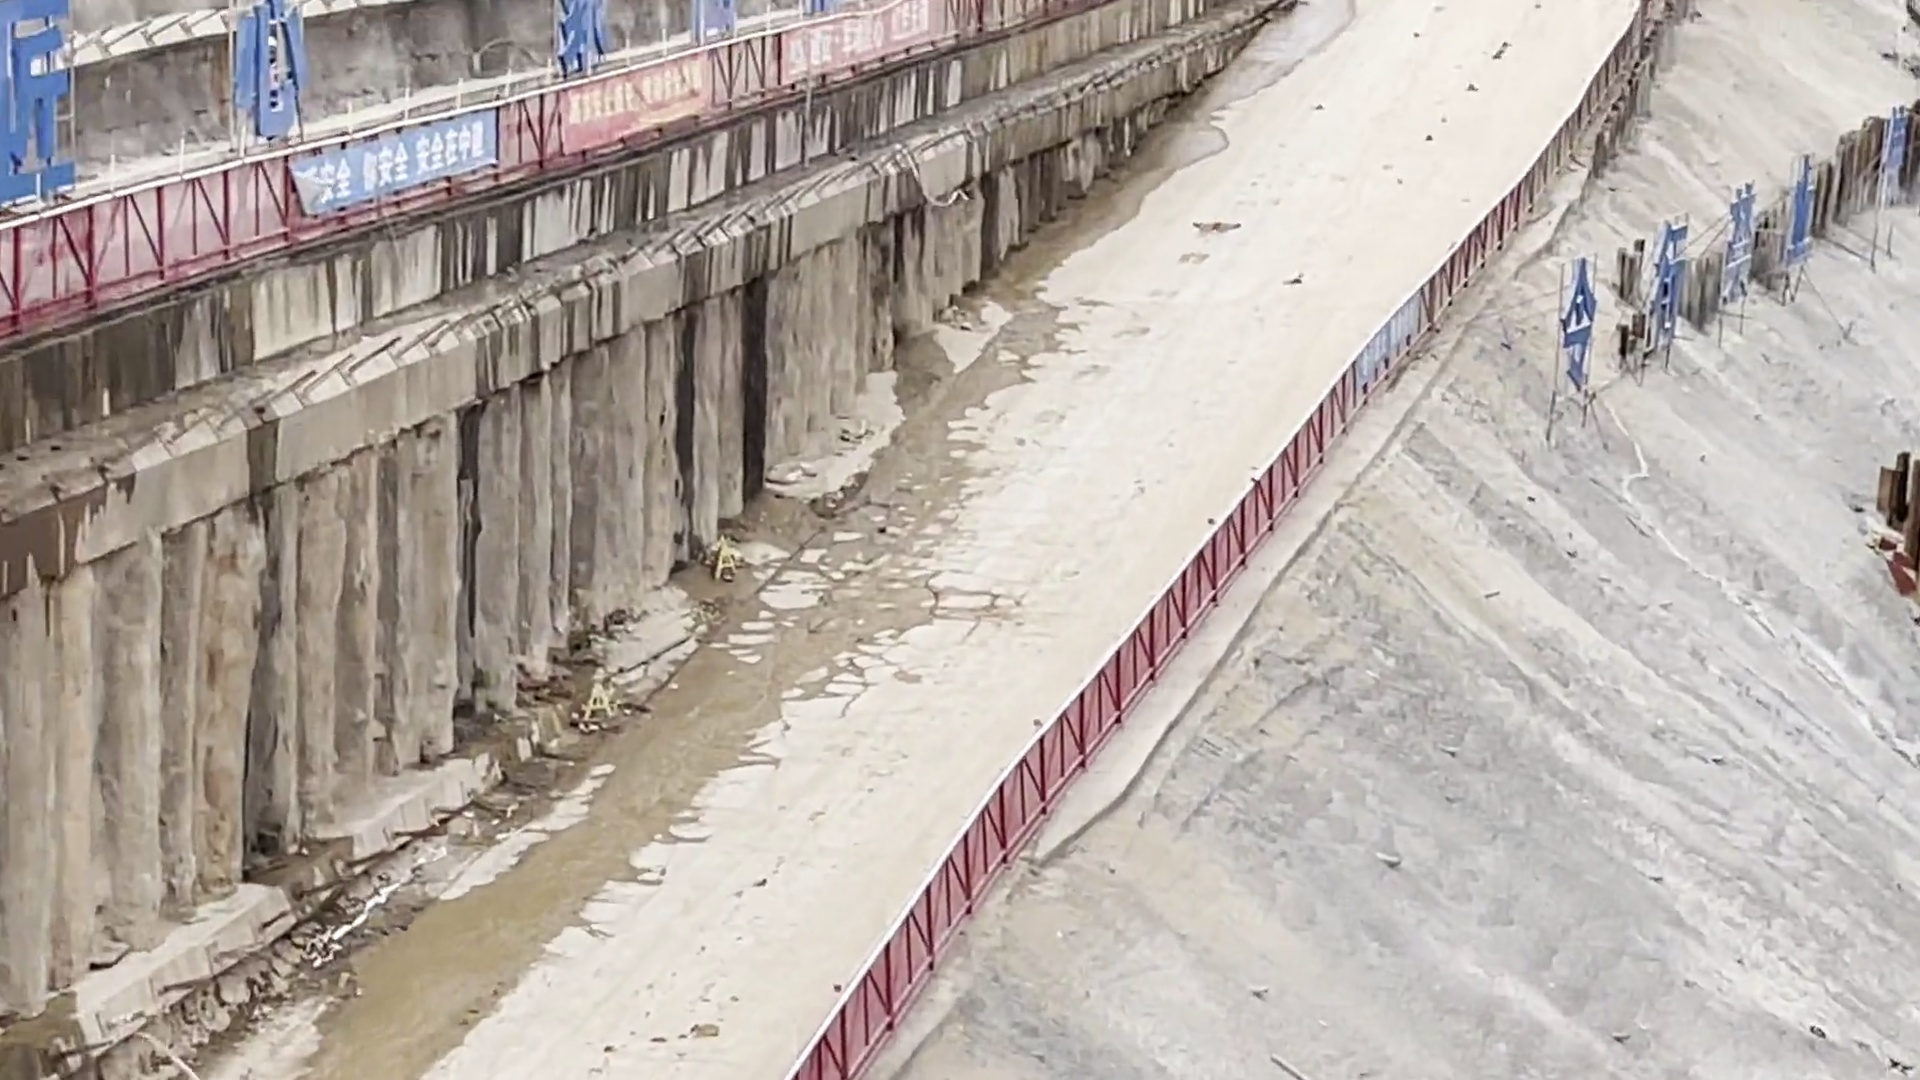fence: (789, 3, 1646, 1080), (11, 1, 1007, 345)
slogan: (1539, 104, 1909, 401), (306, 105, 498, 216), (570, 54, 704, 149), (783, 1, 928, 87), (1362, 301, 1422, 388)
